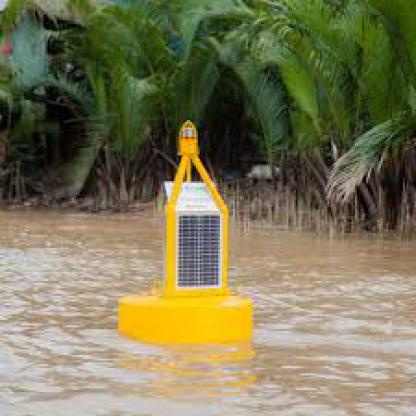buoy: (107, 113, 263, 357)
